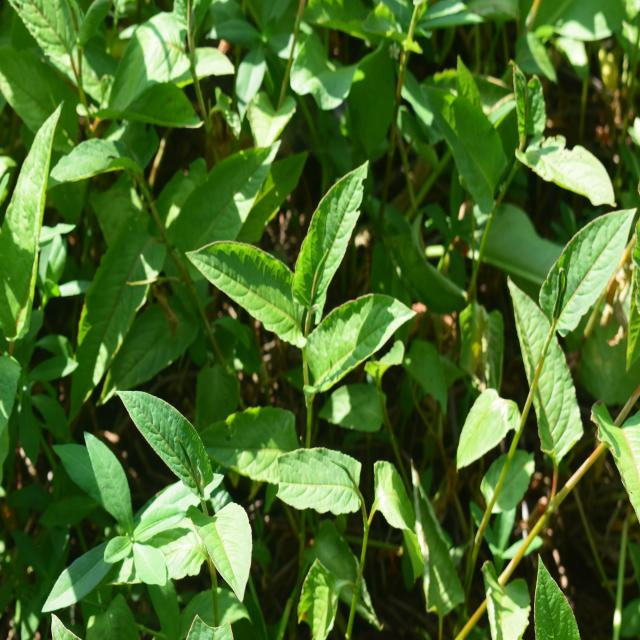Chinese_knotweed: (199, 166, 393, 480), (132, 386, 267, 601)
